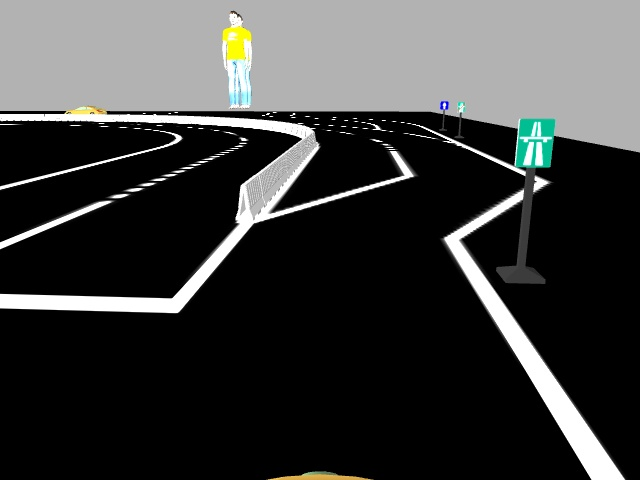HighwayEntrance: (514, 117, 554, 167)
